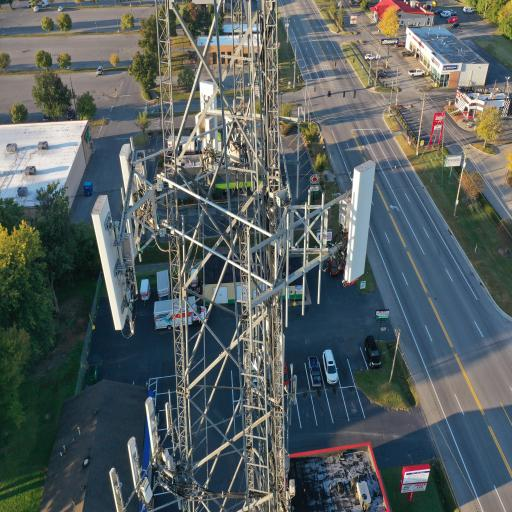supporting_tower: (82, 0, 384, 512)
